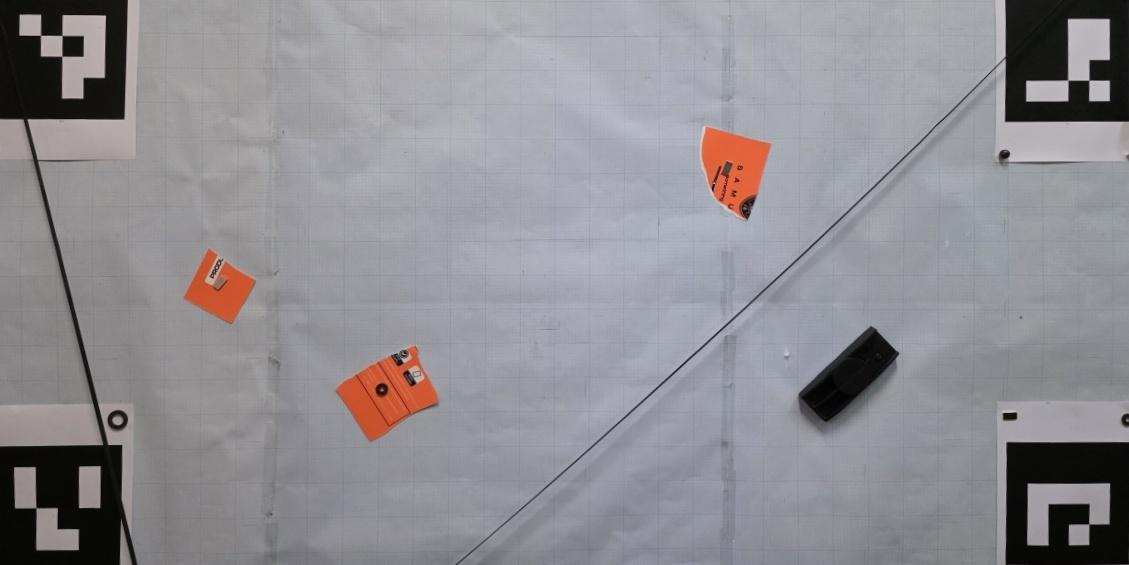obstacle: (334, 346, 440, 443), (798, 326, 901, 423), (699, 125, 771, 222), (184, 248, 257, 324)
